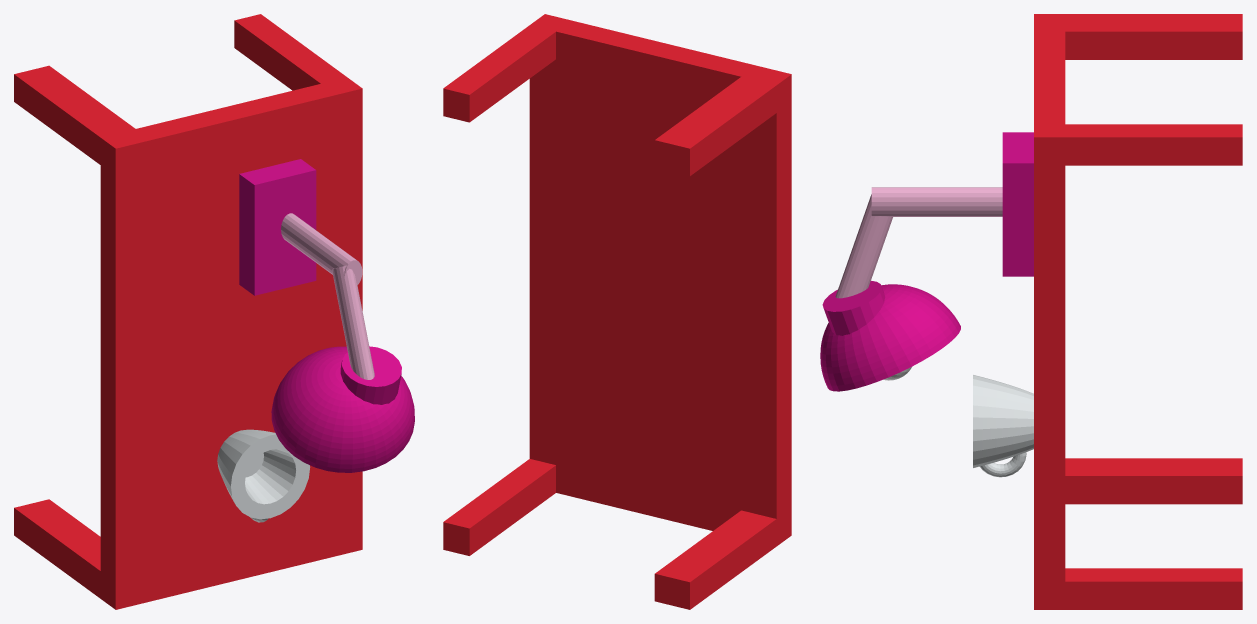
File: tinker.obj
3 renders of one model, left to right at view 1: azimuth 30°, elevation 25°; view 2: azimuth 150°, elevation 25°; view 3: azimuth 270°, elevation 25°, orthographic. The views are drawn at different scales.
Parts seen in each view (by area): view 1: group_0_15277357, group_0_14093196, group_0_14541540, group_0_15708628; view 2: group_0_15277357; view 3: group_0_15277357, group_0_14093196, group_0_15708628, group_0_14541540.
Boxes of the visible parts, x1,y1,x2,y2 form: group_0_15277357: (14,14,362,609); group_0_14093196: (239,159,414,472); group_0_14541540: (217,429,310,522); group_0_15708628: (281,213,374,379); group_0_15277357: (443,14,791,609); group_0_15277357: (1034,14,1242,609); group_0_14093196: (820,132,1033,391); group_0_15708628: (835,187,1002,298); group_0_14541540: (973,375,1033,477).
Bounding box in the file's own units: 28 × 50 × 40.48.
